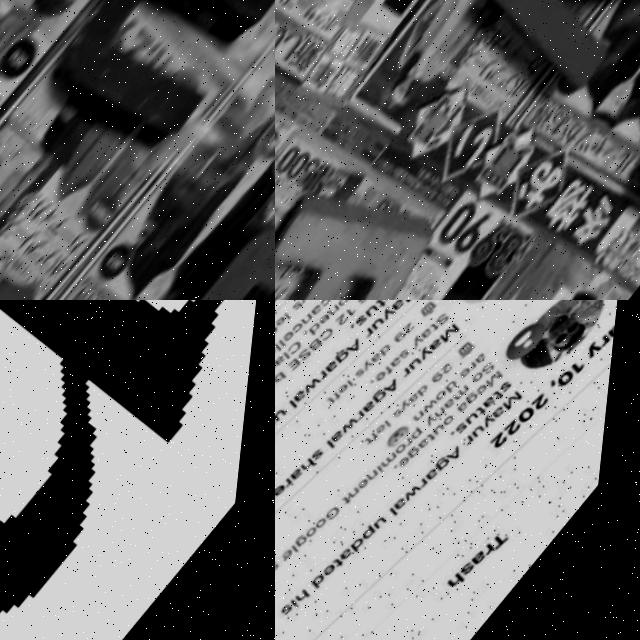0: (559, 360, 583, 385), (522, 398, 544, 421)
1: (574, 353, 592, 369), (349, 301, 364, 314)
2: (535, 386, 557, 408), (509, 413, 529, 434), (496, 425, 517, 445), (339, 307, 355, 324), (406, 317, 421, 331), (444, 357, 458, 371)
9: (435, 365, 450, 381), (397, 325, 412, 341)
F: (275, 148, 467, 300)
J: (141, 191, 275, 300)
N: (0, 300, 275, 640)
P: (595, 8, 640, 218)
U: (37, 0, 275, 159)
V: (468, 0, 640, 92)
